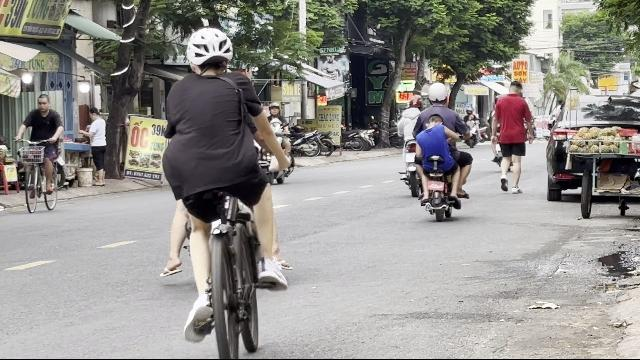helmet: (427, 82, 449, 105)
motorcyclist: (413, 81, 473, 221)
nohelmet: (424, 112, 446, 132)
